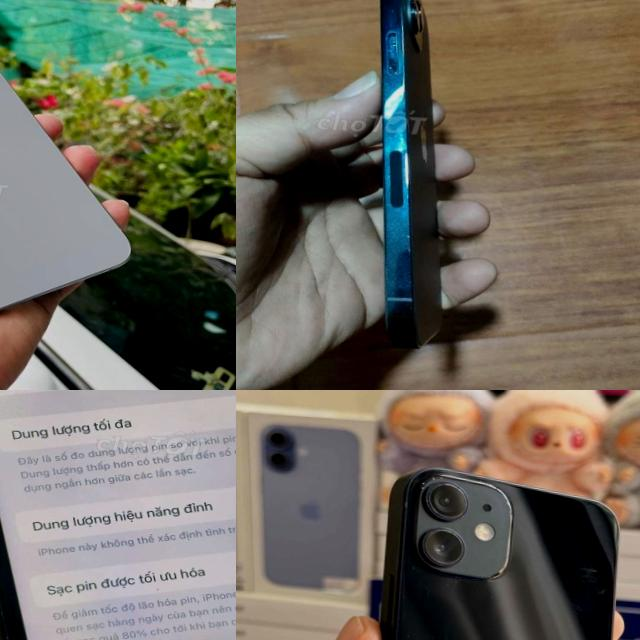gen_12_13: (333, 0, 472, 352), (364, 460, 618, 640)
gen_15: (0, 1, 151, 324)
gen_7_8: (0, 390, 236, 640)
